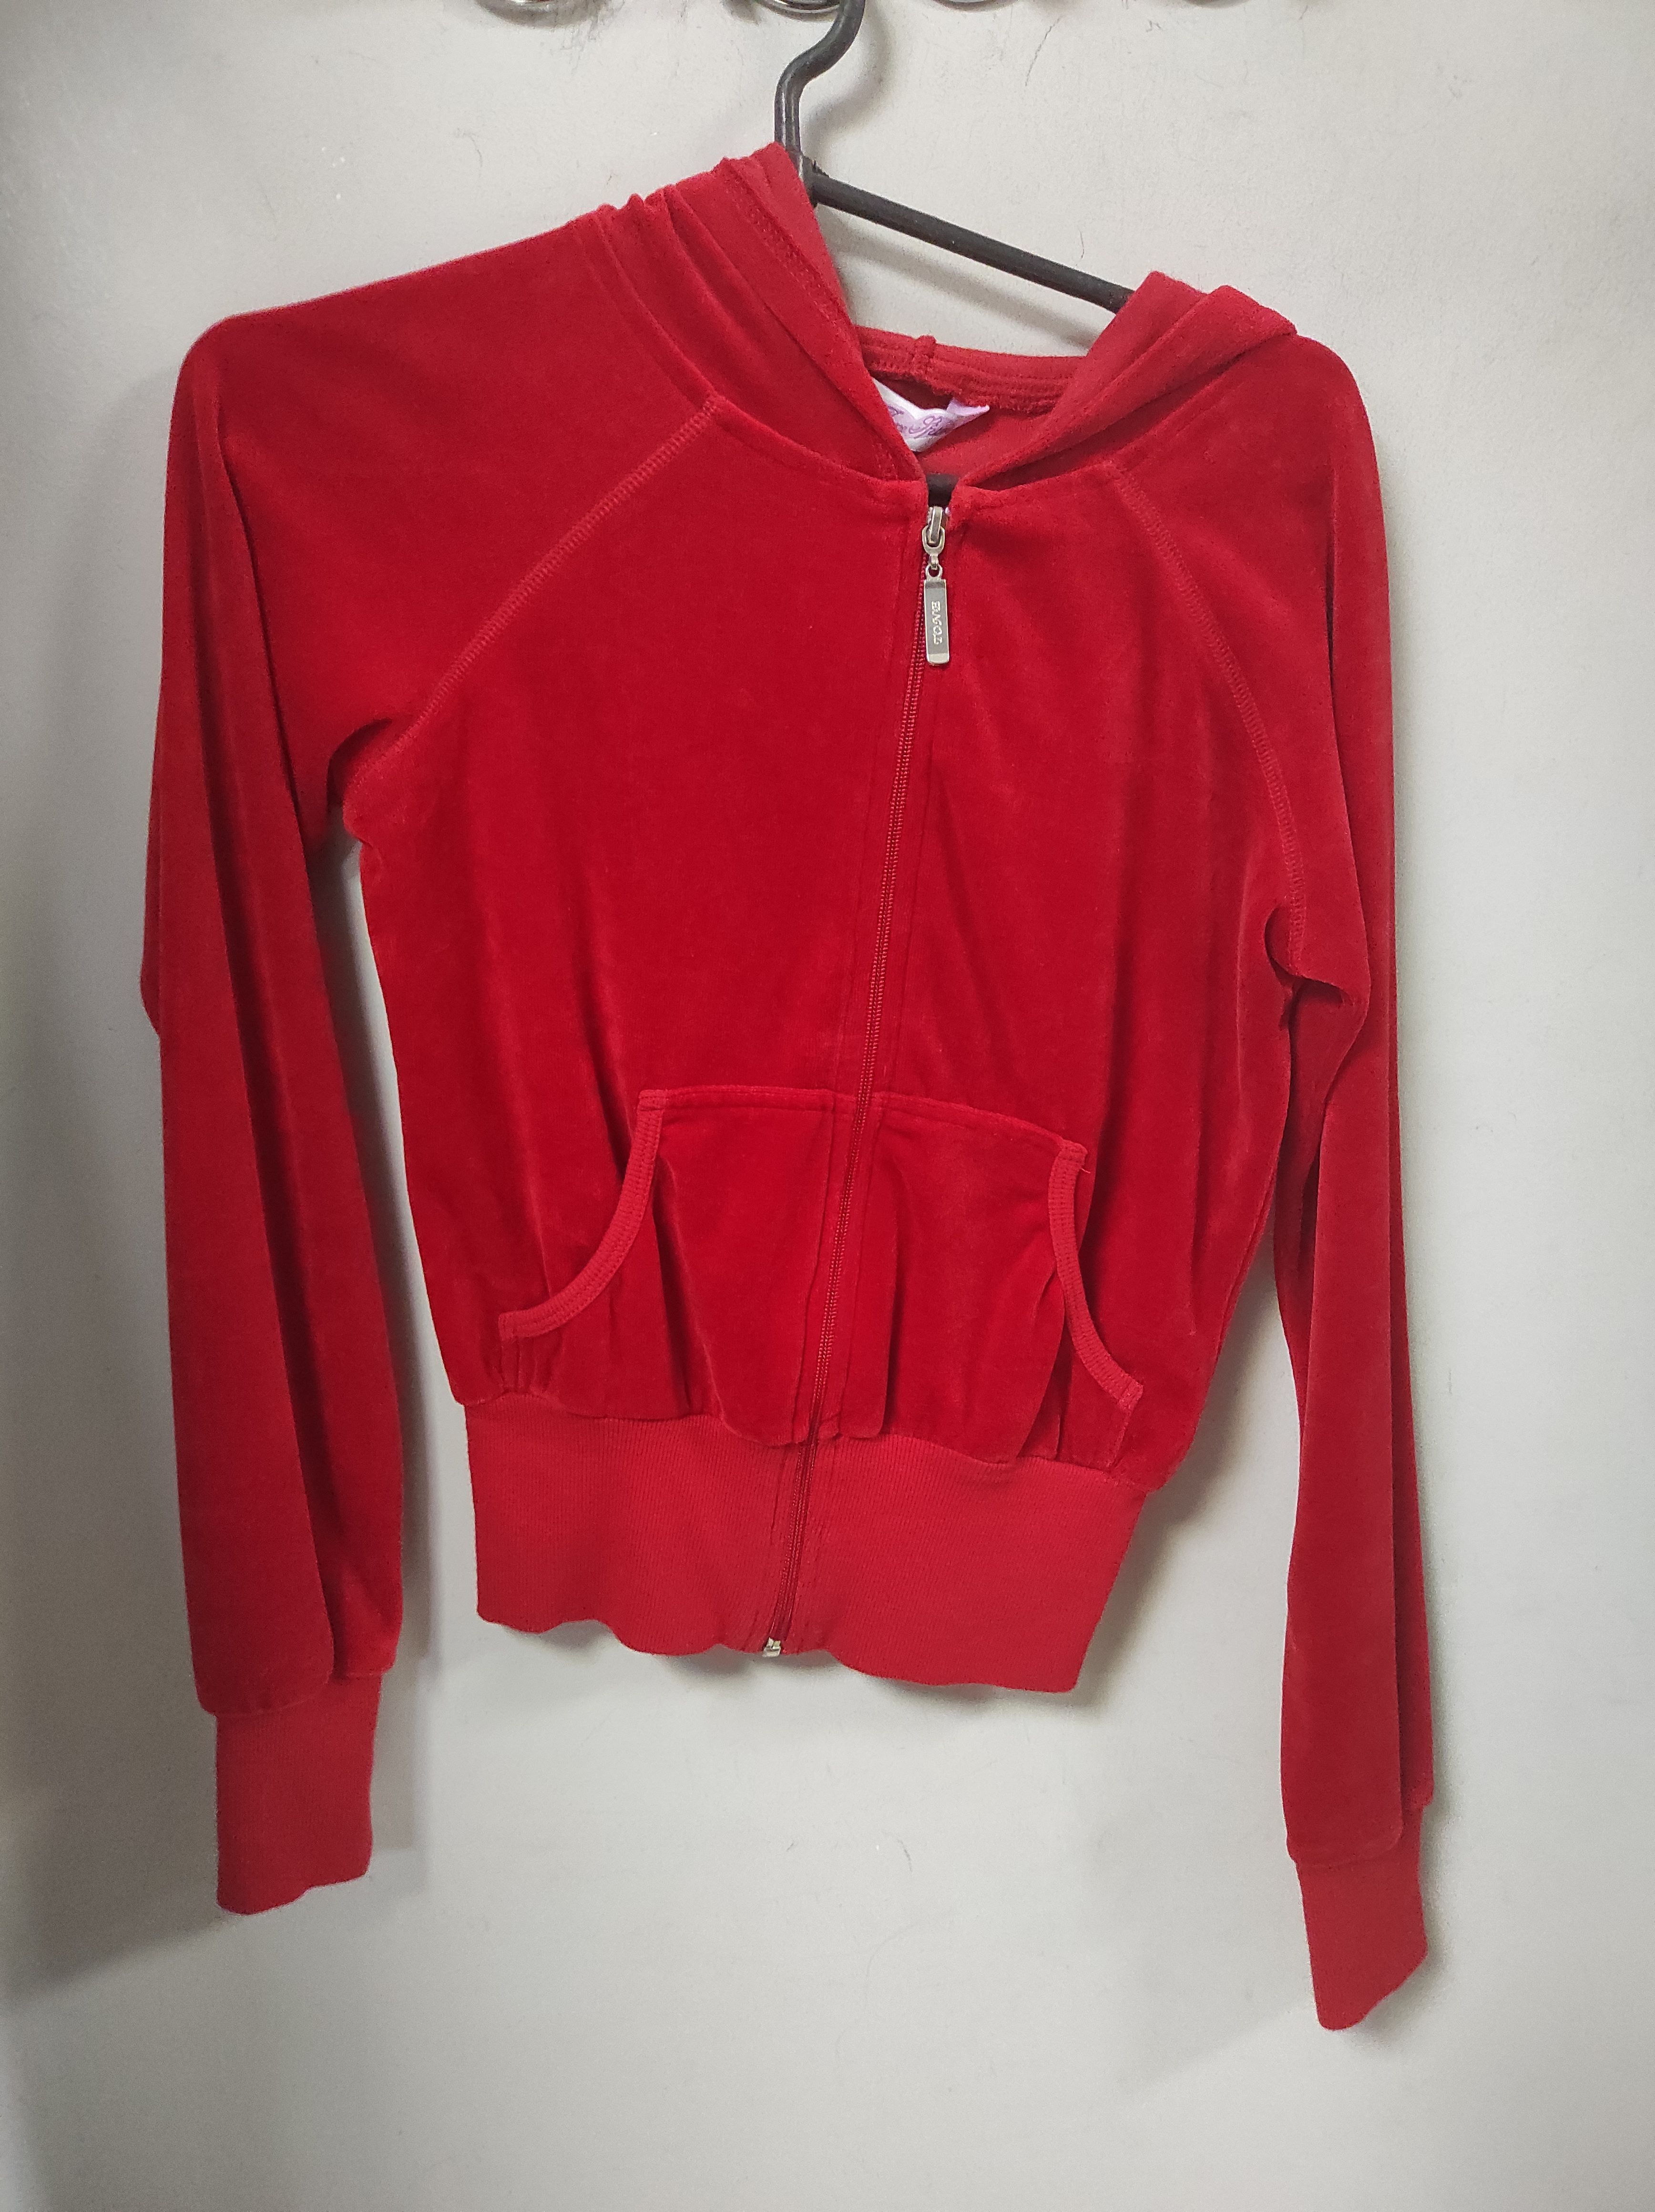clothes: (90, 134, 1453, 2062)
